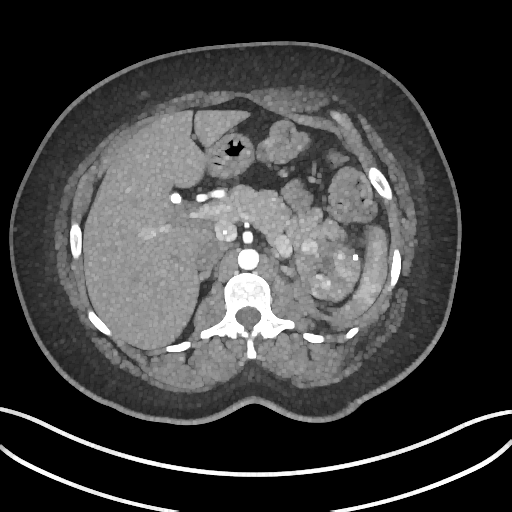Lesion: (299, 234, 318, 256)
